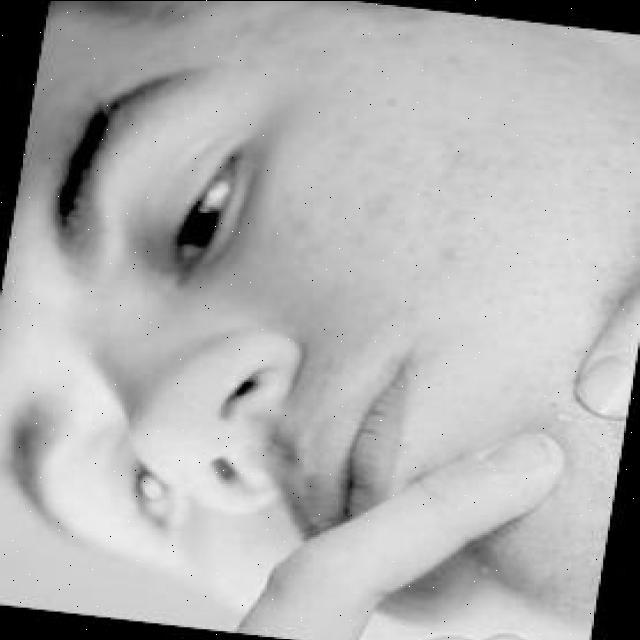Acne: (554, 404, 576, 428)
